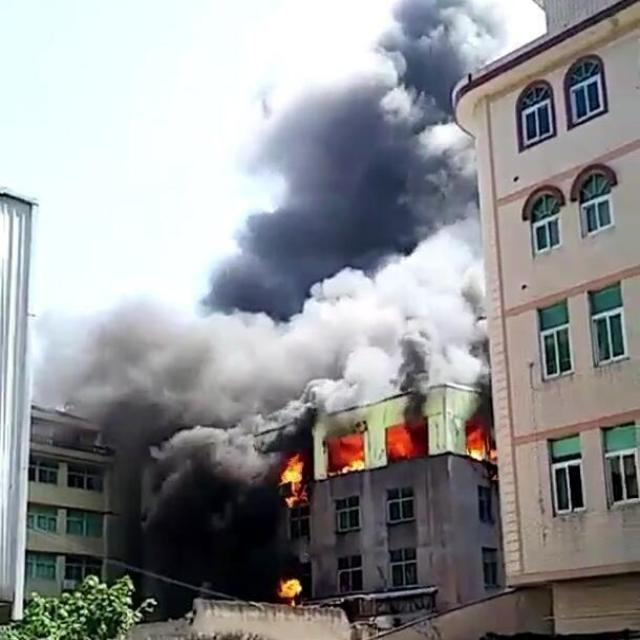Fire: (326, 434, 364, 472), (384, 424, 424, 460), (282, 454, 308, 506), (464, 426, 498, 463), (278, 579, 302, 599)
Smoke: (29, 207, 488, 602), (199, 0, 524, 319)
